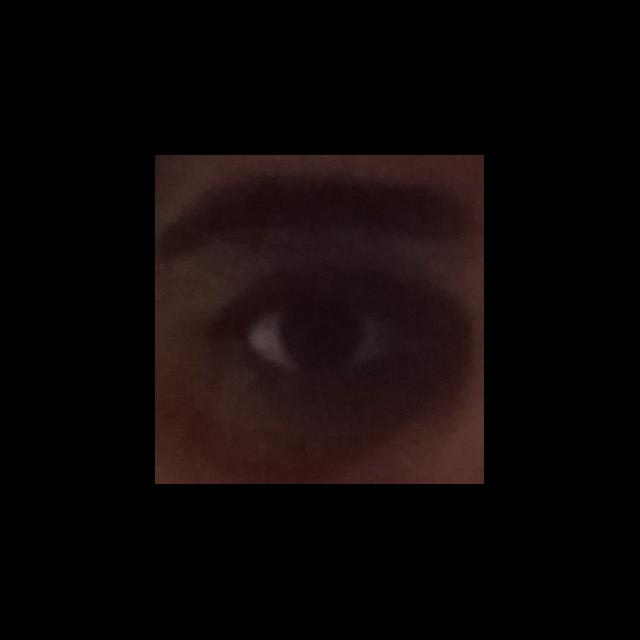eye: (245, 298, 410, 379)
iris: (279, 305, 365, 372)
